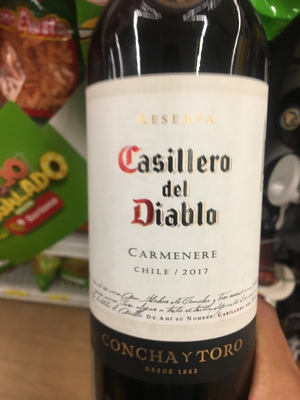casillero del diablo carmenere: (78, 6, 268, 400)
